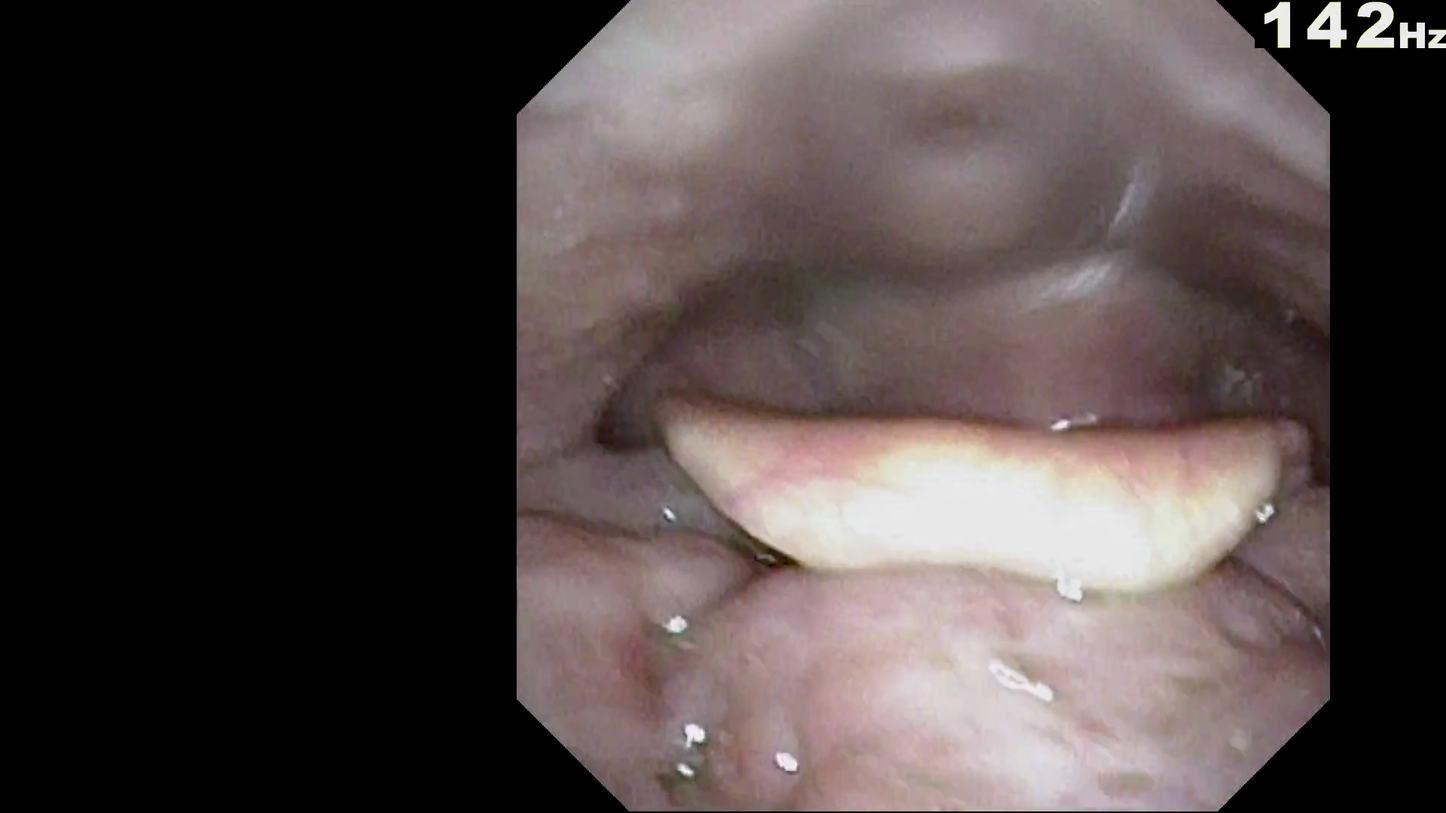epiglottis: (657, 395, 1272, 620)
